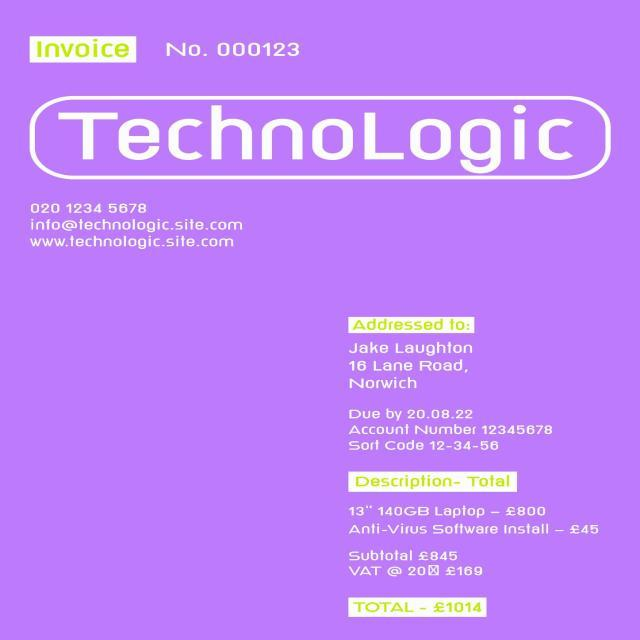ROI: (30, 97, 606, 178), (337, 304, 568, 456), (338, 460, 611, 585), (10, 194, 266, 264), (344, 589, 500, 630), (25, 31, 141, 69), (162, 36, 306, 64)
